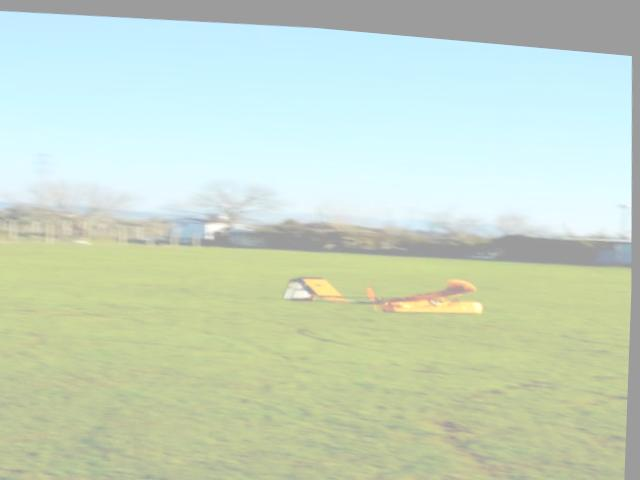iha: (275, 249, 496, 318)
